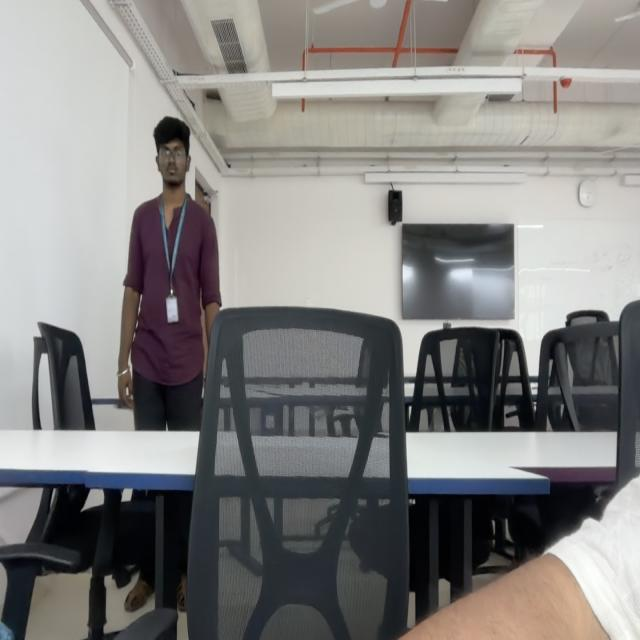ravindra: (151, 116, 194, 189)
